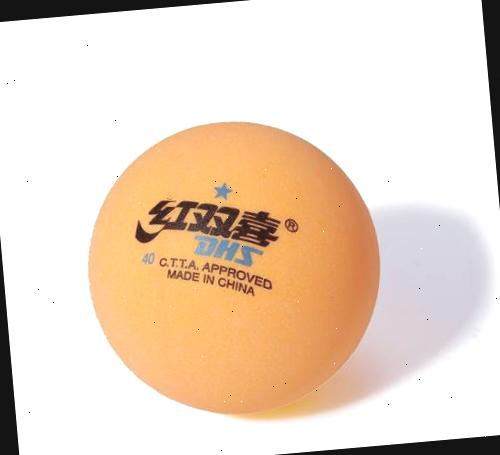ball: (70, 102, 394, 428)
